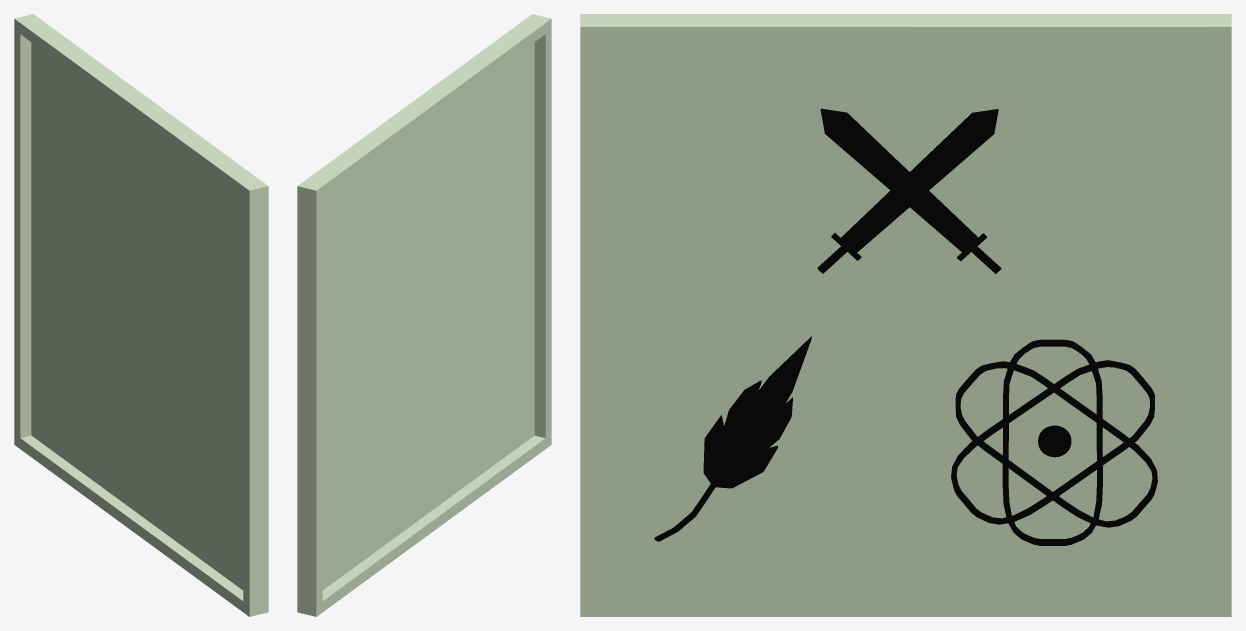
The model's file is CuadroHab (1).fbx.
3 renders of one model, left to right at view 1: azimuth 30°, elevation 25°; view 2: azimuth 150°, elevation 25°; view 3: azimuth 270°, elevation 25°, orthographic. The views are drawn at different scales.
Visible parts, largest first — view 1: CuadroPieza; view 2: CuadroPieza; view 3: CuadroPieza.
Part boxes in pixels (bbox=[...]): CuadroPieza: bbox=[14, 14, 268, 616]; CuadroPieza: bbox=[297, 14, 551, 616]; CuadroPieza: bbox=[580, 14, 1231, 616].
Bounding box in the file's own units: 0.0582 × 1.06 × 1.06.
